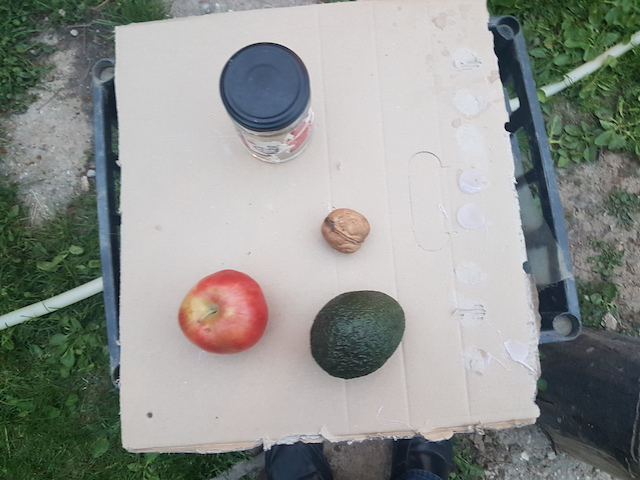apple: (174, 267, 272, 352)
avocado: (308, 286, 406, 380)
nut: (320, 202, 372, 255)
recipient: (220, 38, 310, 132)
